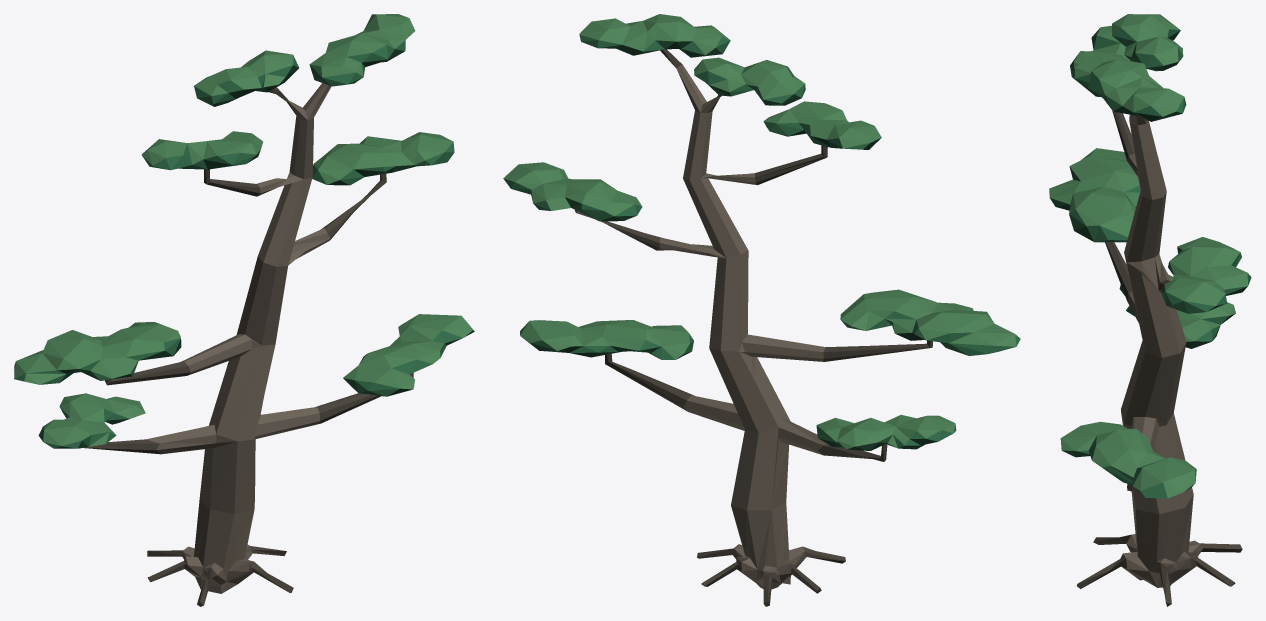
The model's file is ancient-pine-1256-lod2.glb.
3 renders of one model, left to right at view 1: azimuth 30°, elevation 25°; view 2: azimuth 150°, elevation 25°; view 3: azimuth 270°, elevation 25°, orthographic. The views are drawn at different scales.
Parts seen in each view (by area): view 1: n8.006, n12.006, n11.006, n9.006, n10.006; view 2: n12.006, n8.006, n9.006, n11.006, n10.006; view 3: n12.006, n8.006, n11.006, n9.006, n10.006.
Boxes of the visible parts, bbox=[...] form: n8.006: bbox=[146, 83, 331, 593]; n12.006: bbox=[14, 14, 472, 446]; n11.006: bbox=[14, 40, 473, 448]; n9.006: bbox=[83, 87, 413, 606]; n10.006: bbox=[54, 49, 474, 448]; n12.006: bbox=[503, 14, 1016, 449]; n8.006: bbox=[657, 65, 828, 589]; n9.006: bbox=[575, 49, 932, 606]; n11.006: bbox=[503, 34, 1020, 448]; n10.006: bbox=[522, 41, 1006, 450]; n12.006: bbox=[1049, 14, 1248, 498]; n8.006: bbox=[1121, 114, 1202, 587]; n11.006: bbox=[1050, 27, 1251, 498]; n9.006: bbox=[1076, 110, 1242, 606]; n10.006: bbox=[1056, 30, 1247, 496].
Size of the model in its own units: 5.1 by 5.43 by 1.7.
